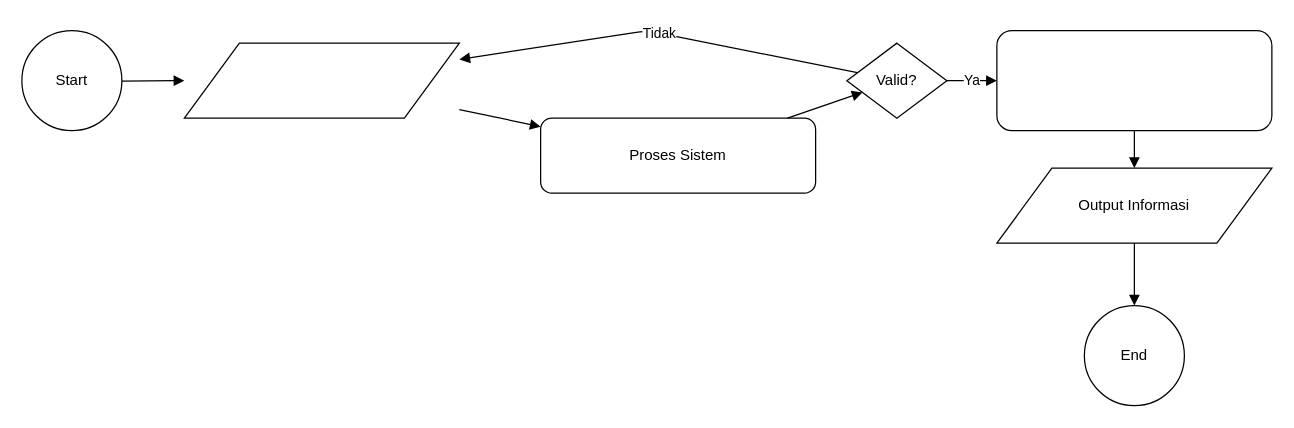
Image size: 1294x428. Some labels were removed from this diagram. Here are the shapes that lost their labels. From the top down, the centre of each, then its label:
the point at 321,80: Input Data
the point at 1134,80: Pengolahan & Analisis
